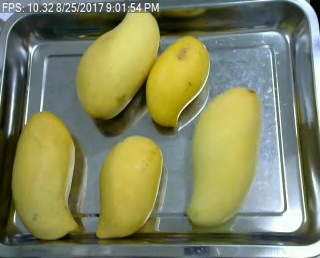Mango: (183, 86, 263, 232), (71, 5, 163, 122), (6, 110, 79, 240), (141, 31, 213, 130), (97, 134, 161, 239)
